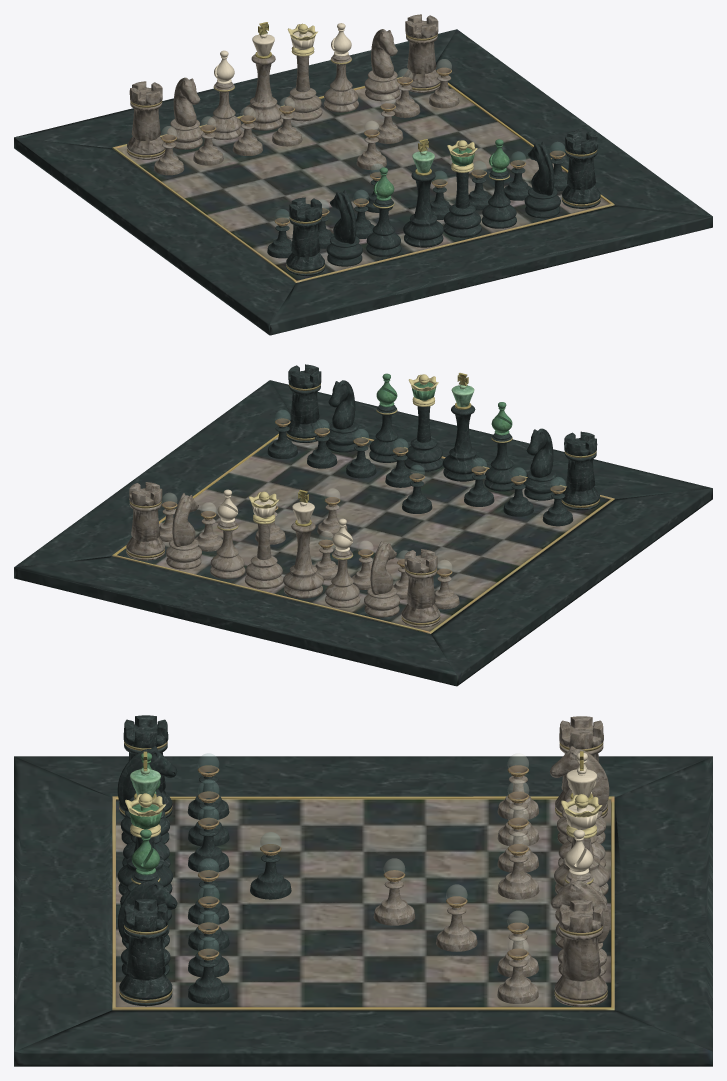
The model's file is game-chess-001.glb.
The picture shows the model from 3 angles, top to bottom: view 1: azimuth 30°, elevation 25°; view 2: azimuth 150°, elevation 25°; view 3: azimuth 270°, elevation 25°; orthographic projection. The views are drawn at different scales.
Parts seen in each view (by area): view 1: Chessboard, Pawn_Body_Shared (×13), Castle_B1, Castle_B2, Castle_W2, King_B, Castle_W1, Queen_B, King_W, Queen_W, Knight_W1, Knight_B1 (+6 smaller); view 2: Chessboard, Pawn_Body_Shared (×13), Castle_W2, Castle_W1, Castle_B1, King_W, Castle_B2, King_B, Queen_W, Queen_B, Knight_W2, Knight_W1 (+6 smaller); view 3: Chessboard, Pawn_Body_Shared (×16), Castle_B2, Castle_W1, Castle_B1, Knight_B1, Castle_W2, Knight_W2, King_W, King_B, Queen_B, Queen_W (+6 smaller).
Part boxes in pixels (x1,y1,x2,y2): Chessboard: (14,29,712,335); Pawn_Body_Shared (×13): (154,67,531,258); Castle_B1: (286,197,324,275); Castle_B2: (562,130,600,208); Castle_W2: (127,81,165,159); King_B: (403,138,443,247); Castle_W1: (403,14,440,92); Queen_B: (443,140,481,237); King_W: (243,22,283,130); Queen_W: (284,23,322,121); Knight_W1: (364,29,400,101); Knight_B1: (326,190,362,266); Chessboard: (14,380,712,686); Pawn_Body_Shared (×13): (195,418,573,609); Castle_W2: (401,549,440,627); Castle_W1: (126,482,164,560); Castle_B1: (561,431,599,510); King_W: (283,489,323,598); Castle_B2: (286,364,323,442); King_B: (442,373,483,481); Queen_W: (244,491,283,588); Queen_B: (404,374,442,471); Knight_W2: (364,541,400,617); Knight_W1: (166,493,201,569); Chessboard: (14,756,712,1066); Pawn_Body_Shared (×16): (187,765,539,1004); Castle_B2: (119,899,172,1006); Castle_W1: (554,900,607,1006); Castle_B1: (119,715,172,817); Knight_B1: (117,746,177,844); Castle_W2: (555,716,607,818); Knight_W2: (550,746,609,844); King_W: (554,751,609,895); King_B: (117,751,173,895); Queen_B: (120,793,171,920); Queen_W: (555,794,607,921).
Size of the model in its own units: 0.7054 by 0.169 by 0.7054.
15 materials, 13 textured.
